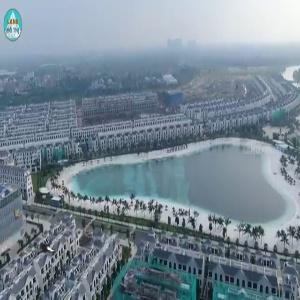drone: (17, 223, 73, 279)
